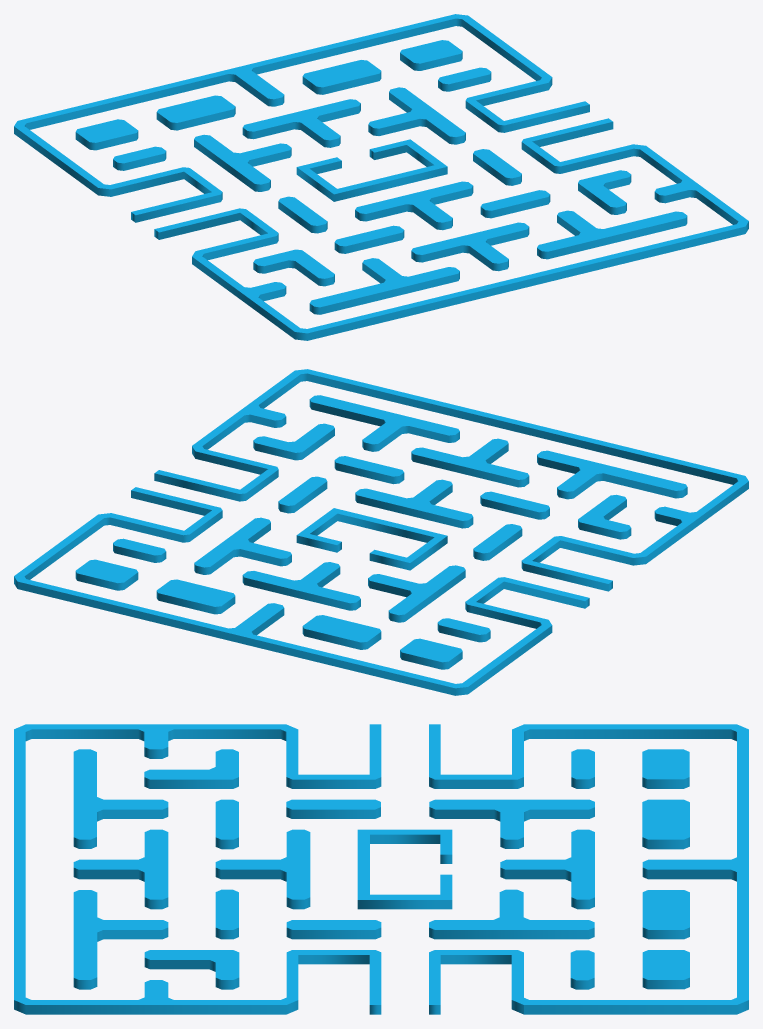
Rendered from maze.gltf.
3 renders of one model, top to bottom at view 1: azimuth 30°, elevation 25°; view 2: azimuth 150°, elevation 25°; view 3: azimuth 270°, elevation 25°, orthographic. The views are drawn at different scales.
Parts seen in each view (by area): view 1: Curve.000; view 2: Curve.000; view 3: Curve.000.
Boxes of the visible parts, x1,y1,x2,y2 form: Curve.000: (14,14,748,340); Curve.000: (14,369,748,695); Curve.000: (14,724,748,1014).
Size of the model in its own units: 14.45 by 0.2288 by 16.
